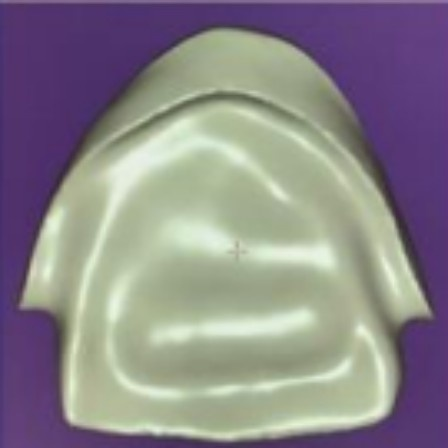coin_1: (56, 317, 76, 337)
coin_2: (61, 407, 81, 427)
coin_3: (402, 325, 422, 345)
coin_4: (406, 370, 426, 390)
